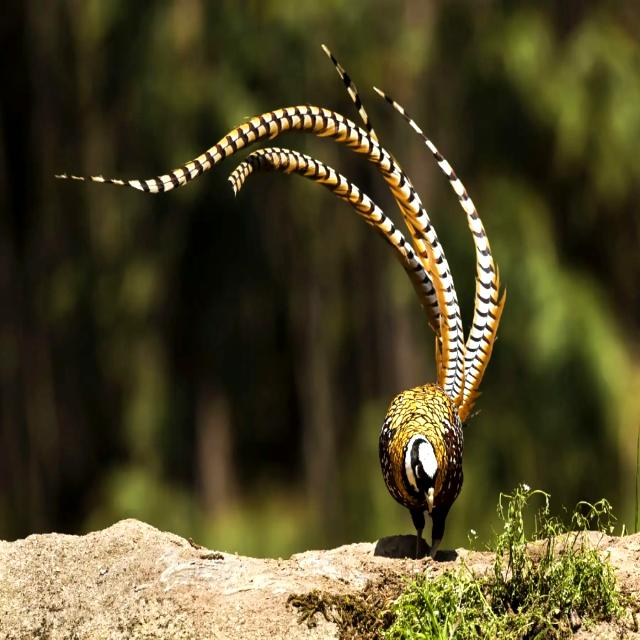Reeves-s Pheasant: (52, 44, 506, 428)
